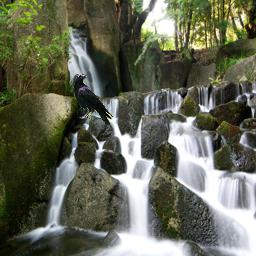Crow: (73, 74, 113, 126)
